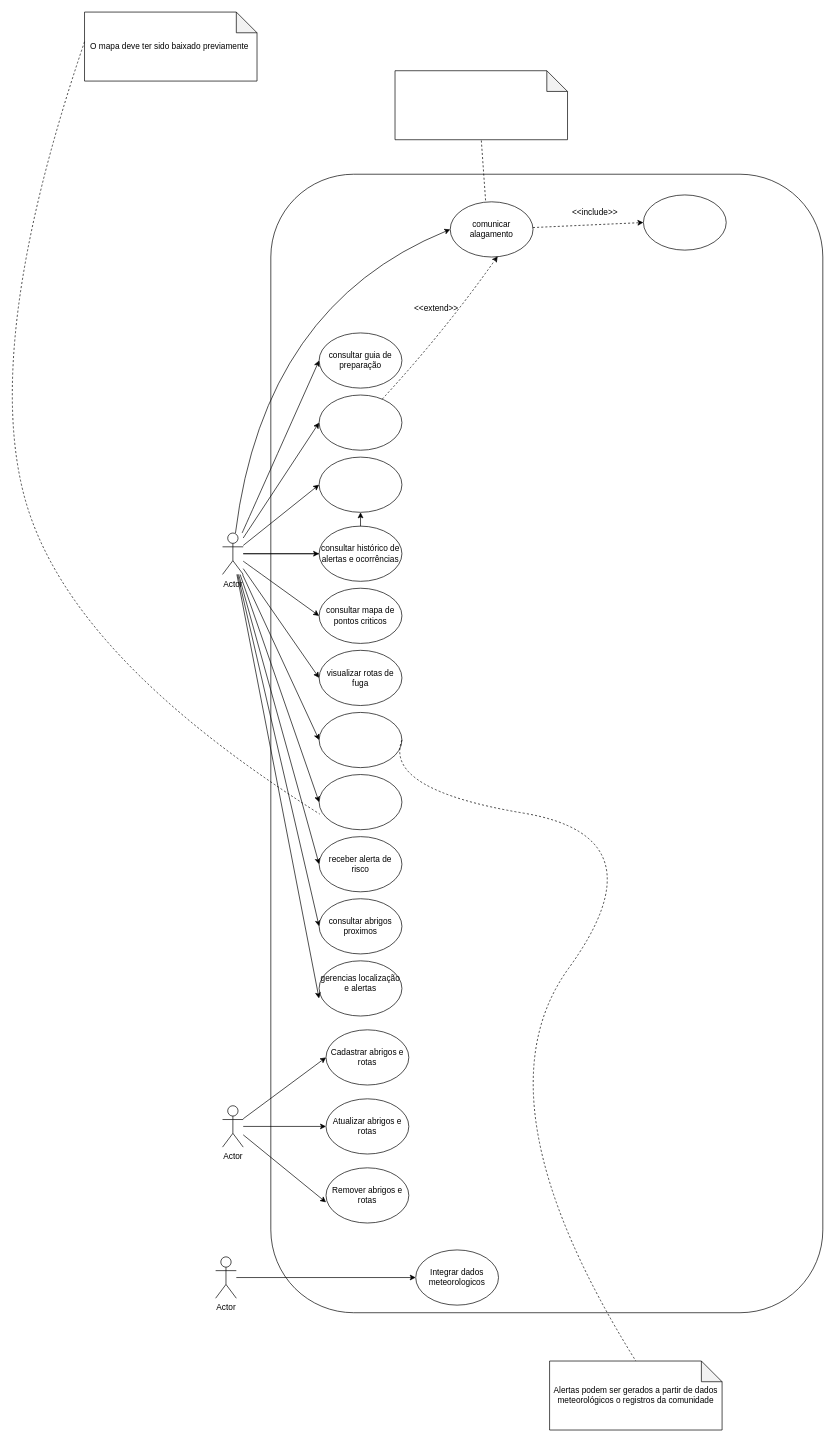
The diagram is 835 pixels wide and 1442 high, and some of its shapes have lost their labels. The shapes that lost their labels are listed below. From the top down, each one's box as (x1, y1, x2, y2) in pixels, then its label:
(394, 70, 568, 140): O registro é realizado anonimamente
(643, 194, 726, 250): informar localização
(318, 394, 402, 450): adicionar descrição
(318, 456, 402, 512): consultar ocorrências
(318, 712, 402, 768): gerar e atualizar alertas
(318, 774, 402, 830): baixar mapa offline
